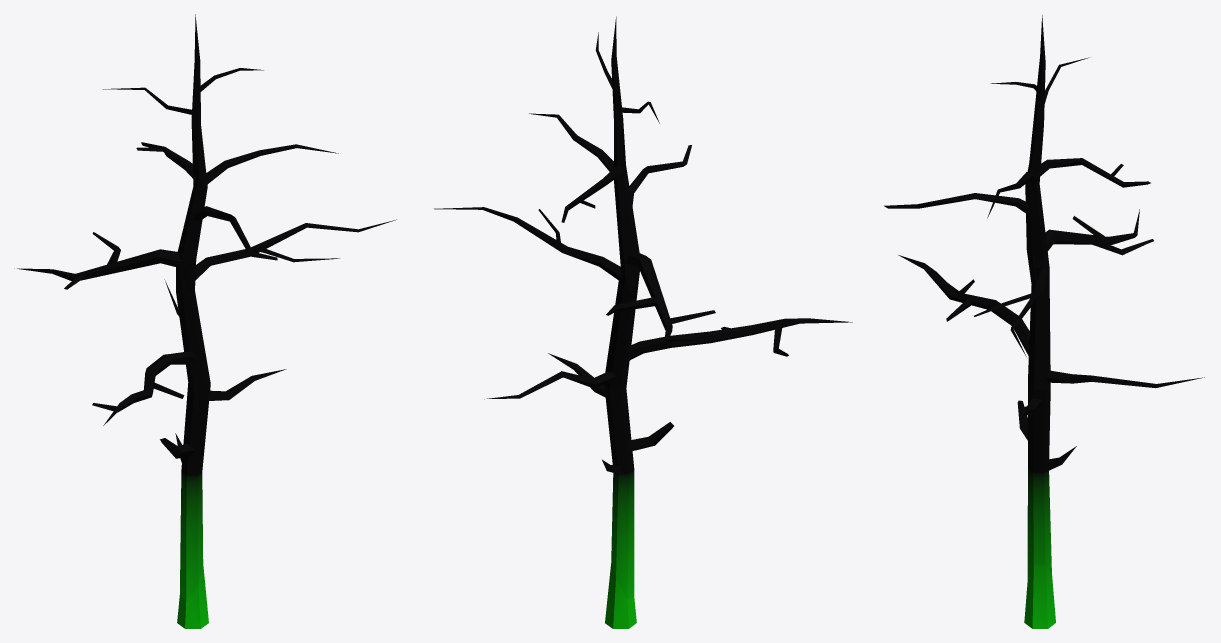
The model's file is SM_Collision_ChinaPina03.fbx.
3 views of the same model, side by side, from view 1: azimuth 30°, elevation 25°; view 2: azimuth 150°, elevation 25°; view 3: azimuth 270°, elevation 25° (orthographic).
Parts seen in each view (by area): view 1: SM_Collision_ChinaPina03; view 2: SM_Collision_ChinaPina03; view 3: SM_Collision_ChinaPina03.
Boxes of the visible parts, left/top/right/bottom form: SM_Collision_ChinaPina03: left=14, top=14, right=396, bottom=628; SM_Collision_ChinaPina03: left=434, top=16, right=852, bottom=628; SM_Collision_ChinaPina03: left=884, top=15, right=1204, bottom=628.
Bounding box in the file's own units: 1229 × 1973 × 946.
